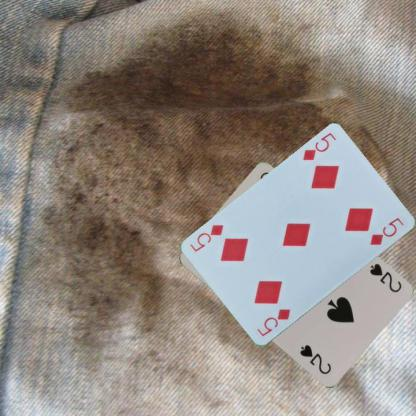2s: (366, 261, 403, 294)
5d: (254, 306, 291, 338), (300, 130, 337, 162)
